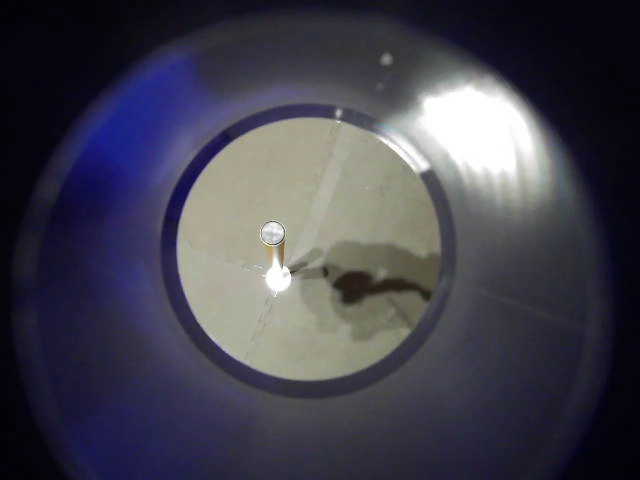tip: (251, 217, 296, 264)
